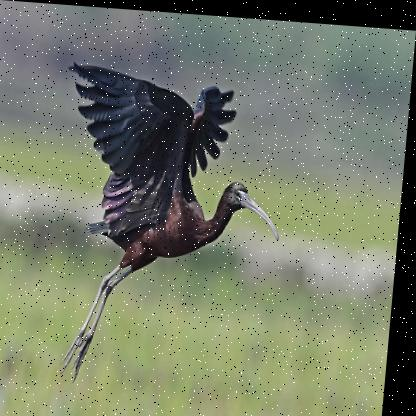Burung: (53, 60, 294, 391)
